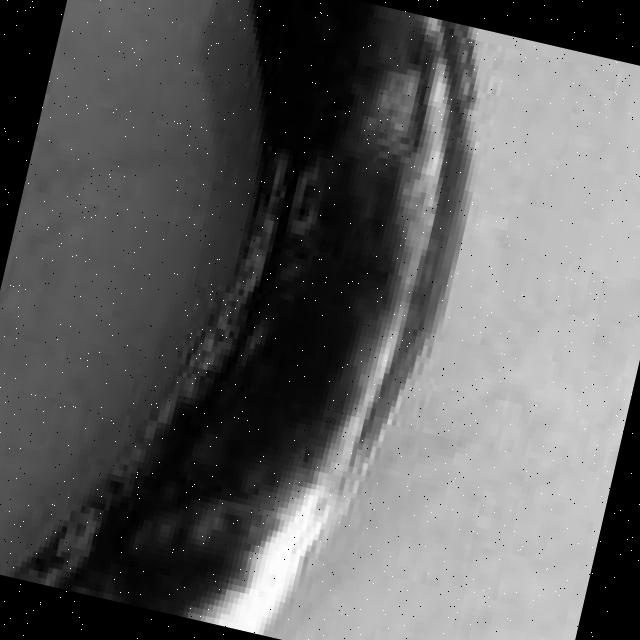Bad_Banana-0 day: (14, 0, 472, 634)
